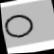no answer: (2, 11, 37, 41)
